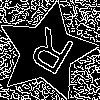R: (21, 26, 77, 85)
